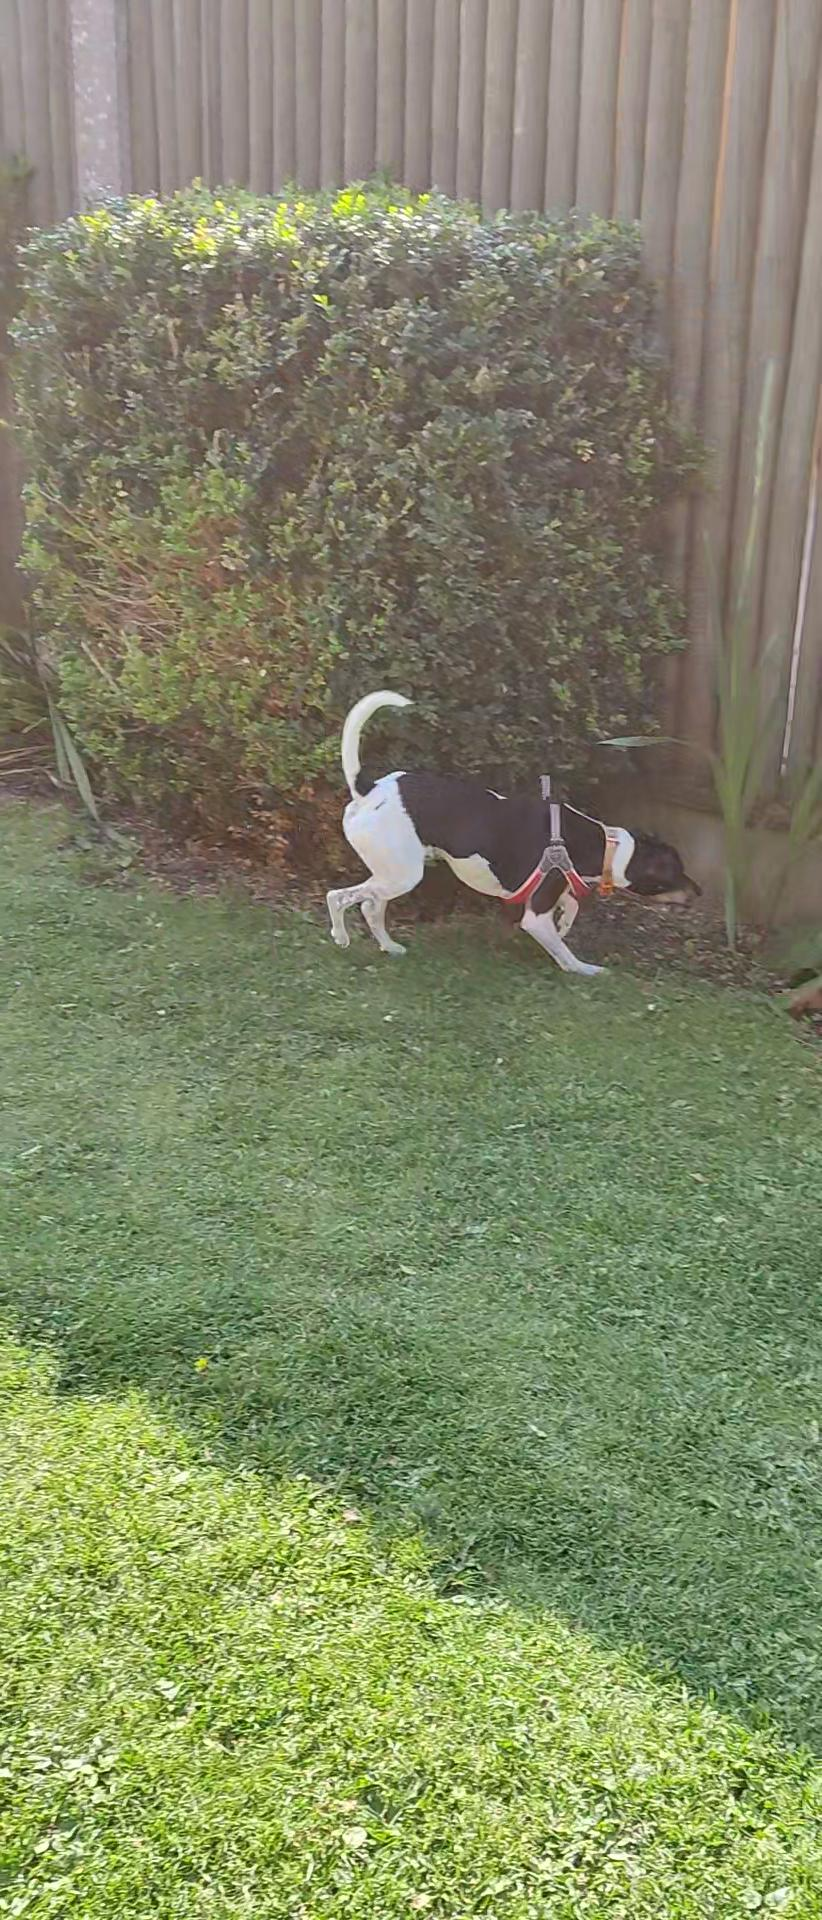Dog: (303, 680, 709, 984)
